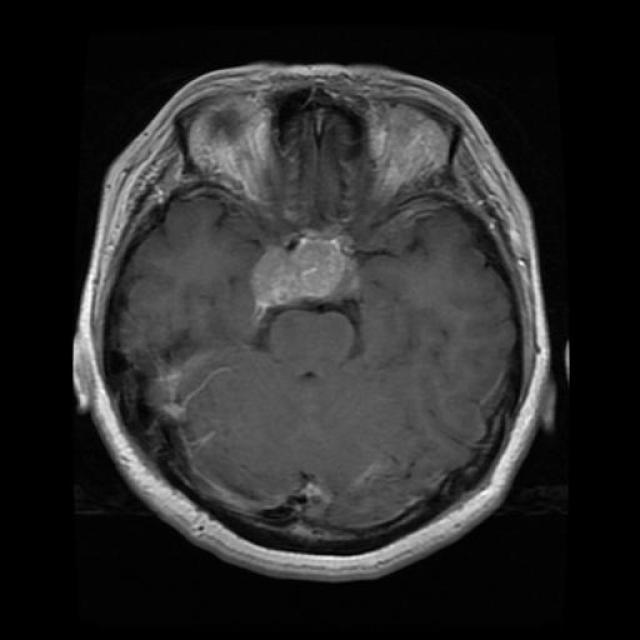pituitary: (239, 220, 373, 316)
